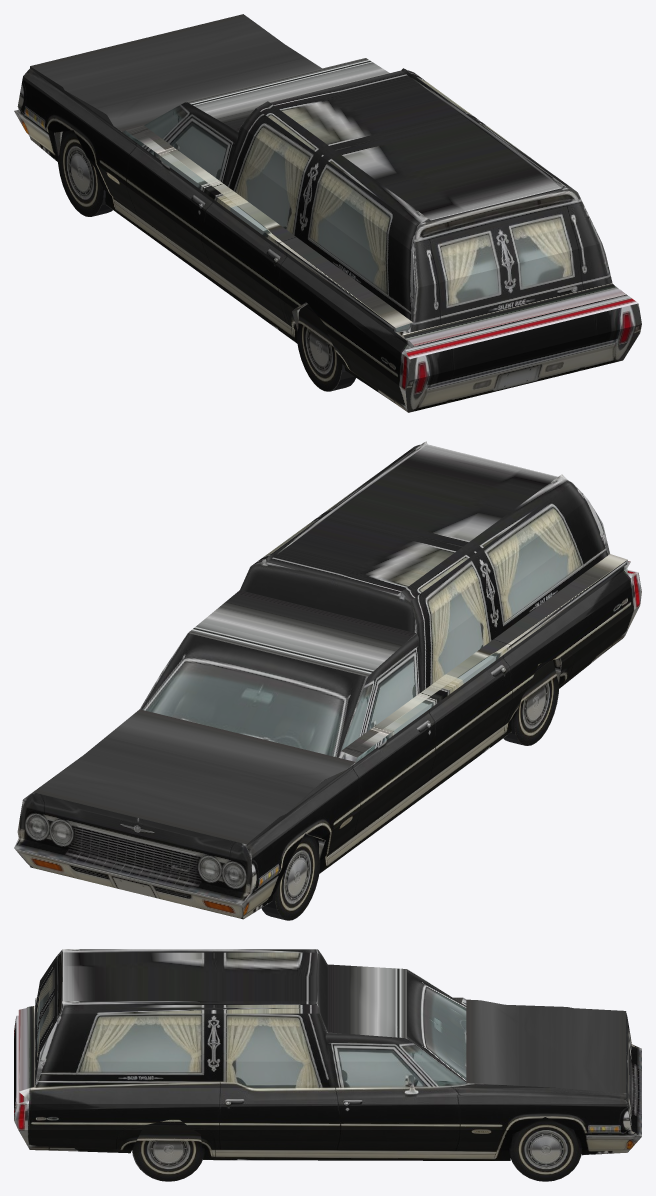
Rendered from hearse.glb.
The picture shows the model from 3 angles, top to bottom: view 1: azimuth 30°, elevation 25°; view 2: azimuth 150°, elevation 25°; view 3: azimuth 270°, elevation 25°; orthographic projection. The views are drawn at different scales.
Visible parts, largest first — view 1: hearse, wheel_BL, wheel_FL; view 2: hearse, wheel_FL, wheel_BL; view 3: hearse, wheel_BR, wheel_FR.
Part boxes in pixels (bbox=[...]): hearse: bbox=[14, 14, 641, 412]; wheel_BL: bbox=[296, 304, 355, 391]; wheel_FL: bbox=[57, 130, 112, 216]; hearse: bbox=[14, 441, 641, 919]; wheel_FL: bbox=[261, 834, 320, 920]; wheel_BL: bbox=[503, 660, 559, 745]; hearse: bbox=[14, 949, 641, 1160]; wheel_BR: bbox=[132, 1118, 204, 1181]; wheel_FR: bbox=[509, 1117, 581, 1181].
Bounding box in the file's own units: 1.98 × 1.68 × 5.79.
Materials: 3 (1 with a texture image).
